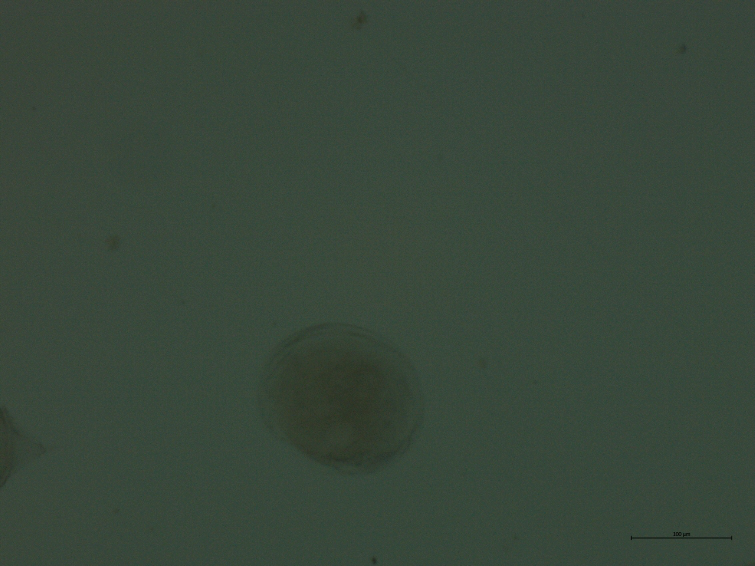oyster: (250, 315, 434, 486)
